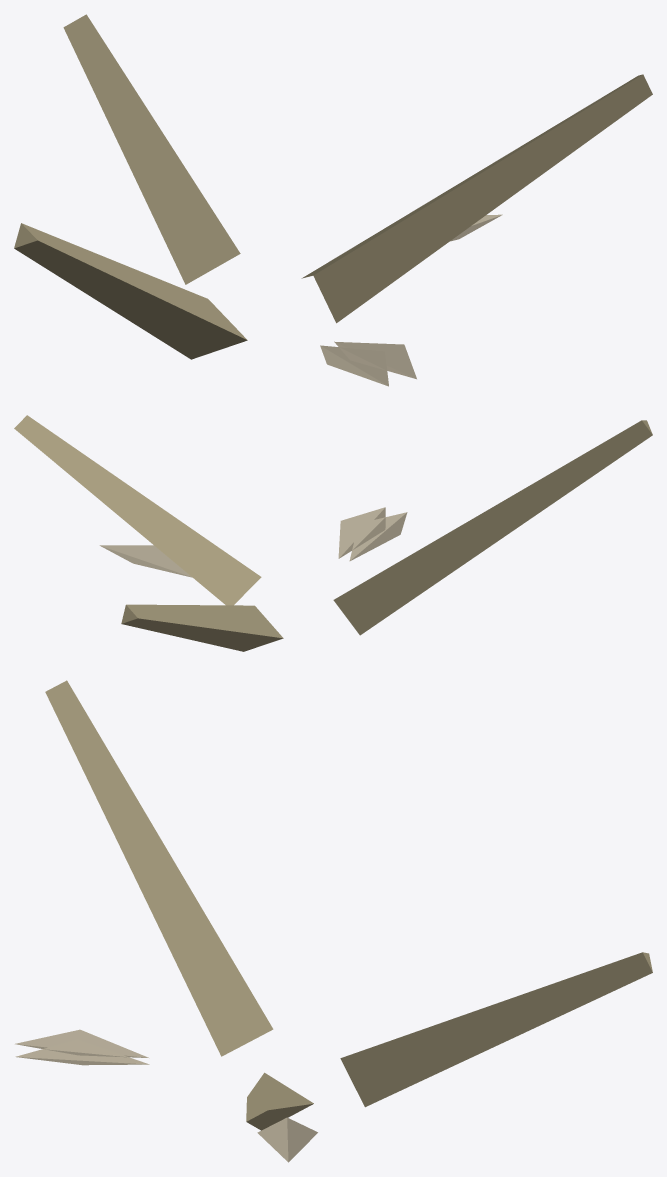
Rendered from guan.zhen@withered__summer.glb.
The picture shows the model from 3 angles, top to bottom: view 1: azimuth 30°, elevation 25°; view 2: azimuth 150°, elevation 25°; view 3: azimuth 270°, elevation 25°; orthographic projection. The views are drawn at different scales.
Visible parts, largest first — view 1: guan.zhen@withered__summer; view 2: guan.zhen@withered__summer; view 3: guan.zhen@withered__summer.
Part boxes in pixels (bbox=[...]): guan.zhen@withered__summer: bbox=[14, 14, 652, 386]; guan.zhen@withered__summer: bbox=[14, 415, 652, 651]; guan.zhen@withered__summer: bbox=[15, 680, 652, 1162].
Bounding box in the file's own units: 1.03 × 0.3741 × 0.8322.
